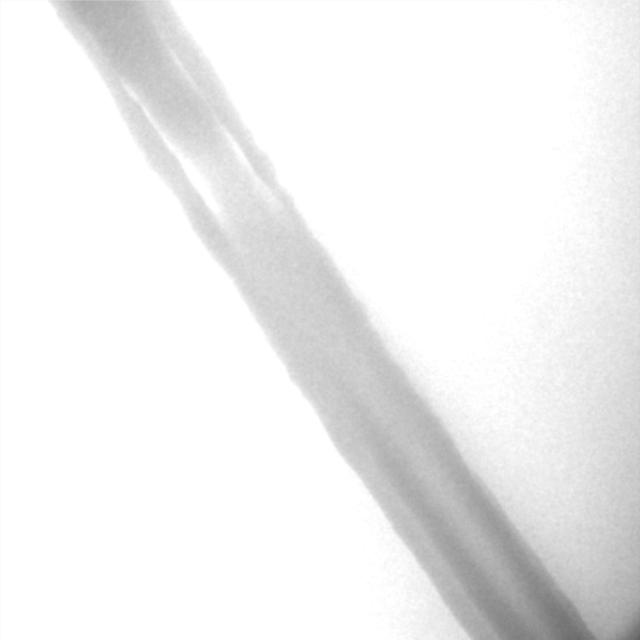unfused: (121, 43, 271, 224)
